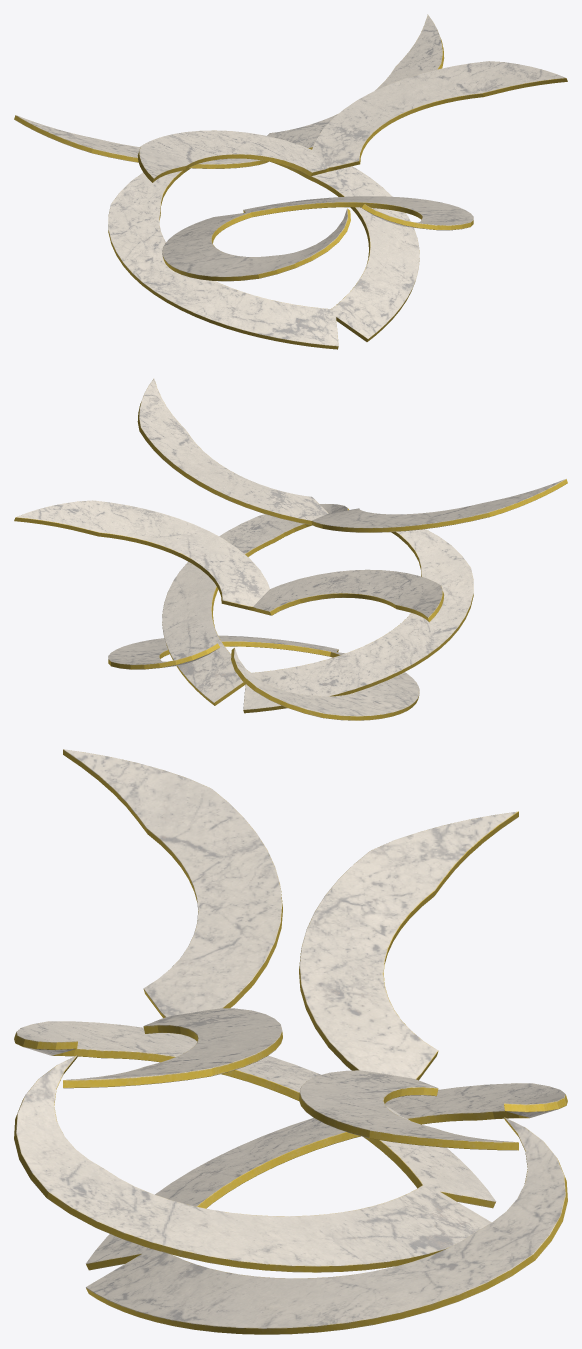
The model's file is stage_mini_venus.obj.
3 renders of one model, top to bottom at view 1: azimuth 30°, elevation 25°; view 2: azimuth 150°, elevation 25°; view 3: azimuth 270°, elevation 25°, orthographic. The views are drawn at different scales.
Parts seen in each view (by area): view 1: stage_mini_venus; view 2: stage_mini_venus; view 3: stage_mini_venus.
Part boxes in pixels (bbox=[...]): stage_mini_venus: bbox=[14, 14, 567, 349]; stage_mini_venus: bbox=[14, 378, 567, 720]; stage_mini_venus: bbox=[14, 749, 567, 1334].
Bounding box in the file's own units: 7.57 × 3.89 × 5.31.
1 material, 1 textured.
